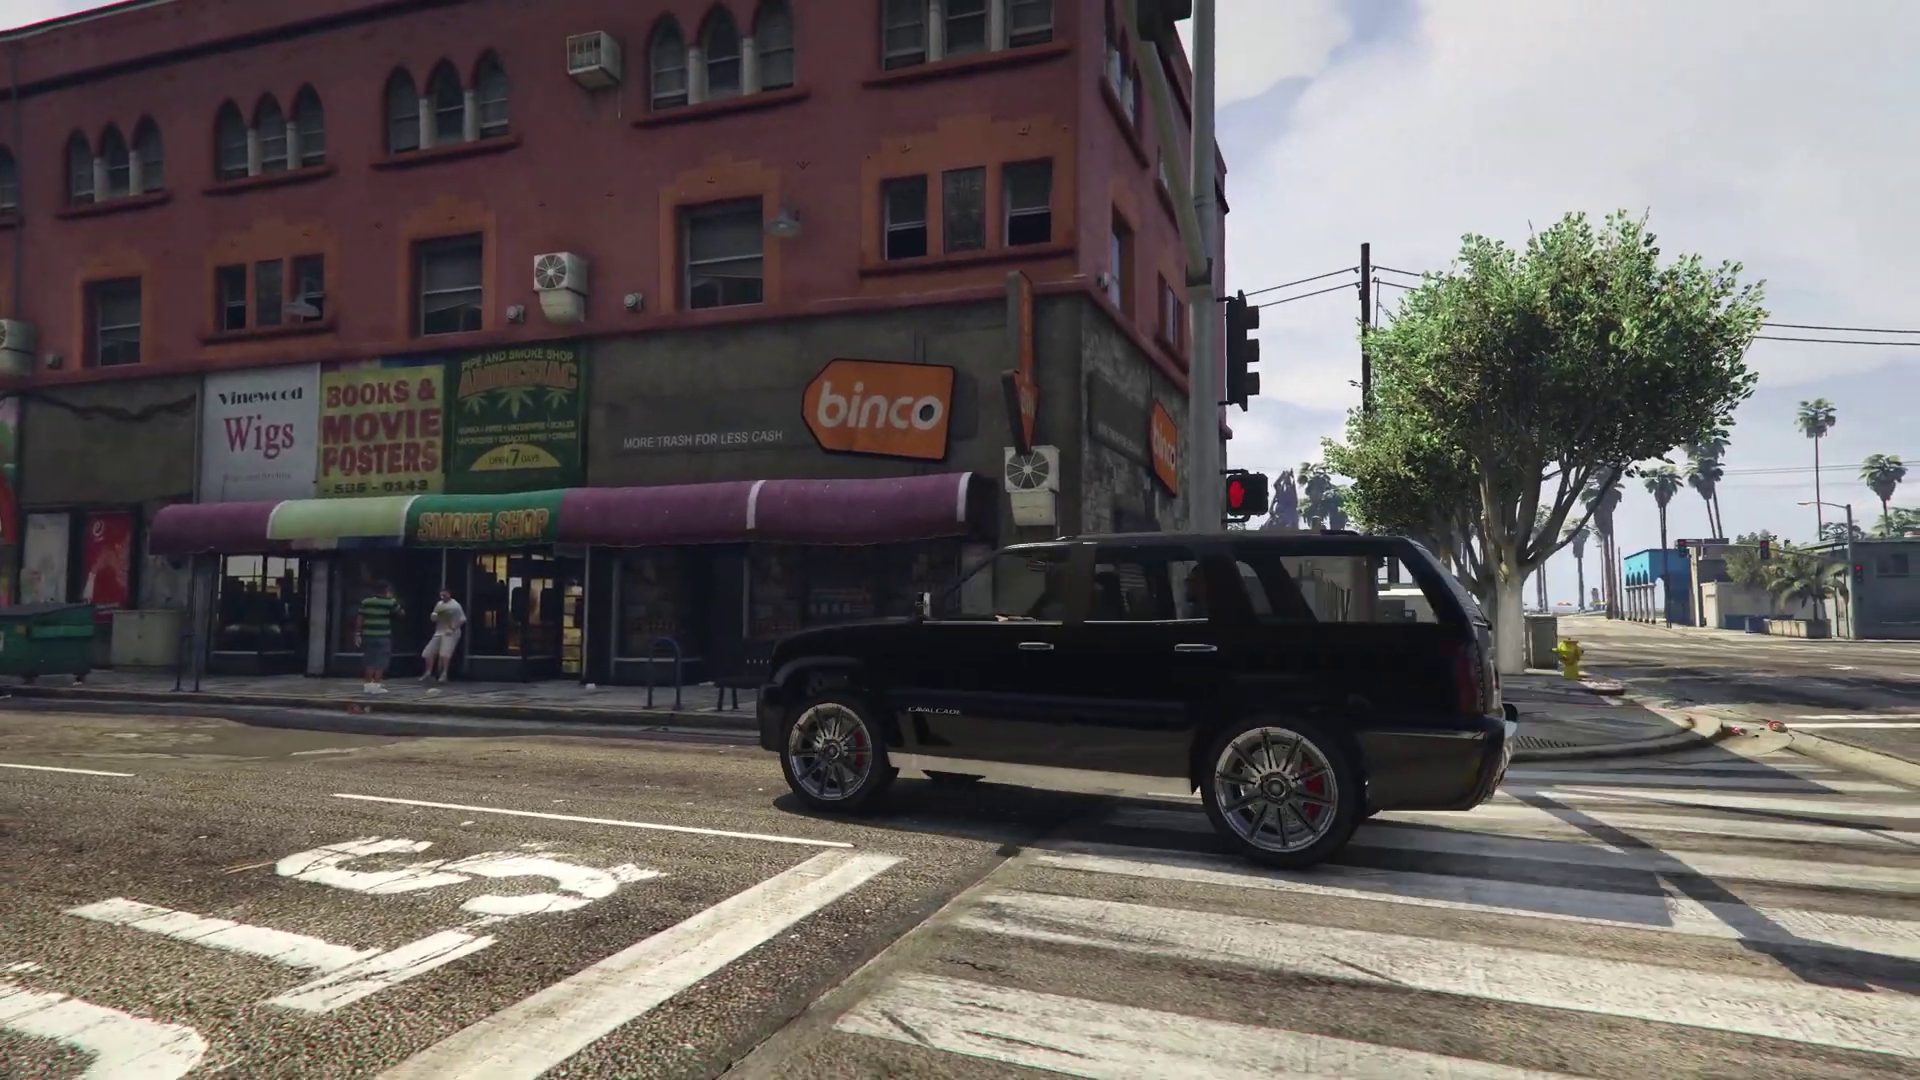car: (756, 534, 1519, 860)
person: (354, 581, 405, 698), (418, 587, 464, 684)
traffic light: (1228, 291, 1262, 405), (1226, 466, 1265, 523), (1758, 540, 1770, 561), (1678, 539, 1686, 560), (1853, 565, 1862, 583)
